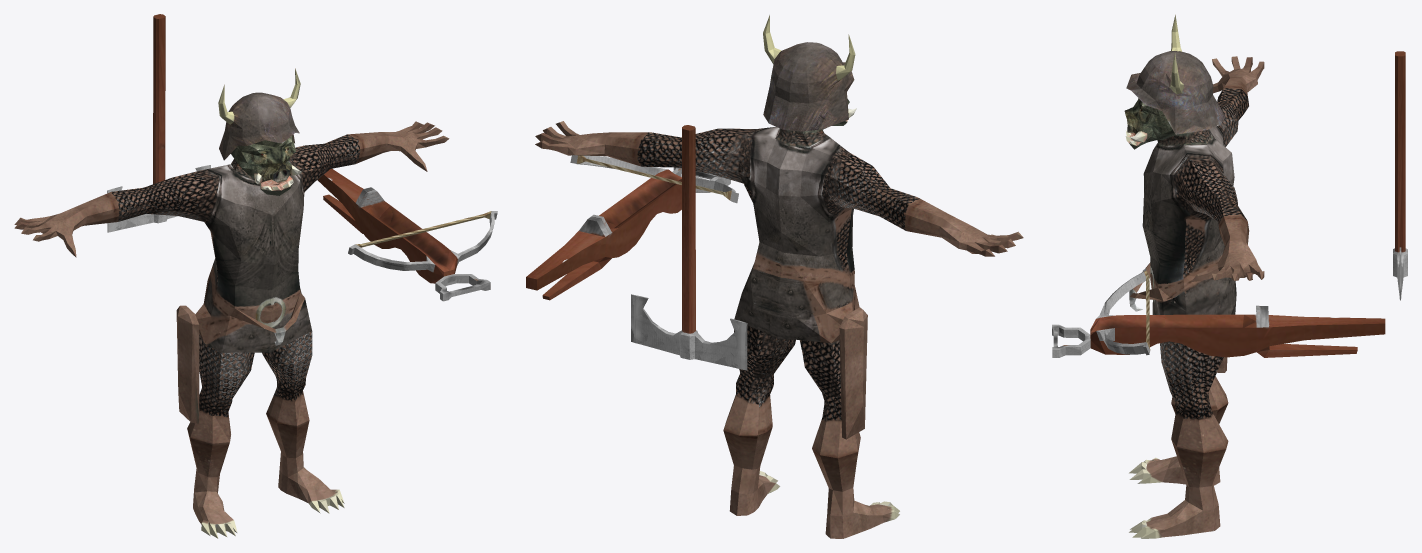
File: orcs.obj
3 views of the same model, side by side, from view 1: azimuth 30°, elevation 25°; view 2: azimuth 150°, elevation 25°; view 3: azimuth 270°, elevation 25° (orthographic). The views are drawn at different scales.
Size of the model in its own units: 6.78 by 6.47 by 4.42.
